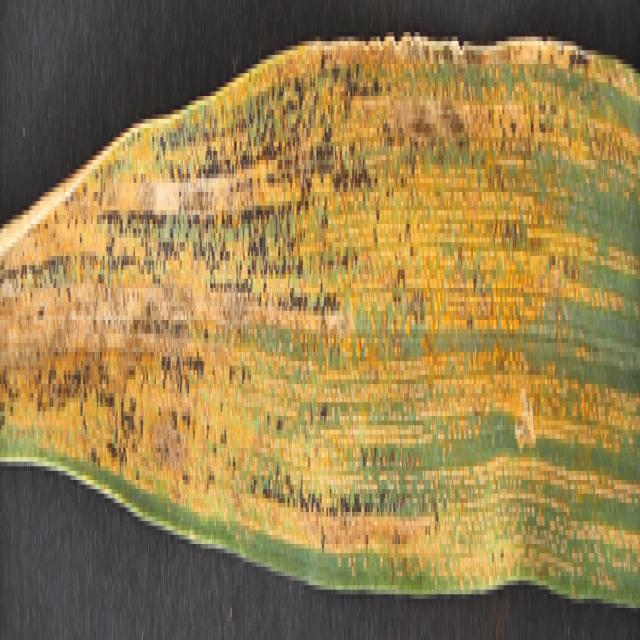leaf rust: (1, 87, 638, 576)
